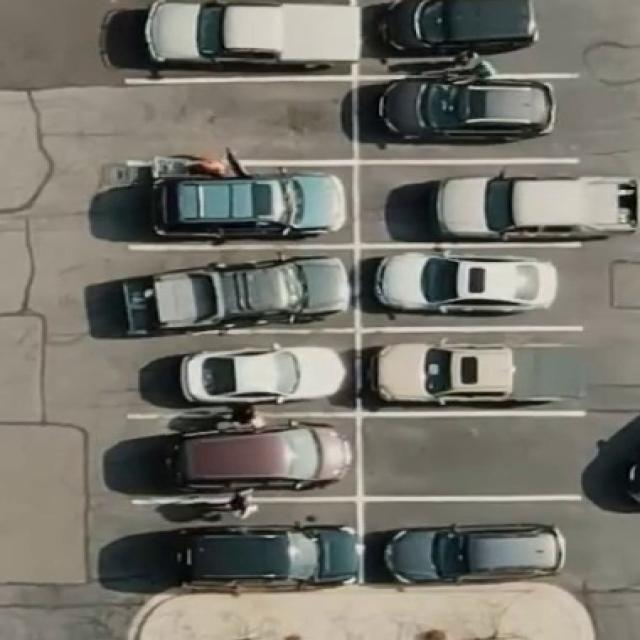empty: (129, 87, 351, 155), (367, 420, 576, 492)
notEmpty: (134, 510, 353, 586), (366, 336, 584, 411), (372, 506, 581, 584), (362, 250, 581, 324), (363, 167, 582, 241), (364, 84, 576, 155), (130, 4, 348, 73), (132, 172, 350, 239), (131, 256, 348, 323), (132, 425, 352, 491), (373, 2, 576, 69), (132, 342, 349, 404)
